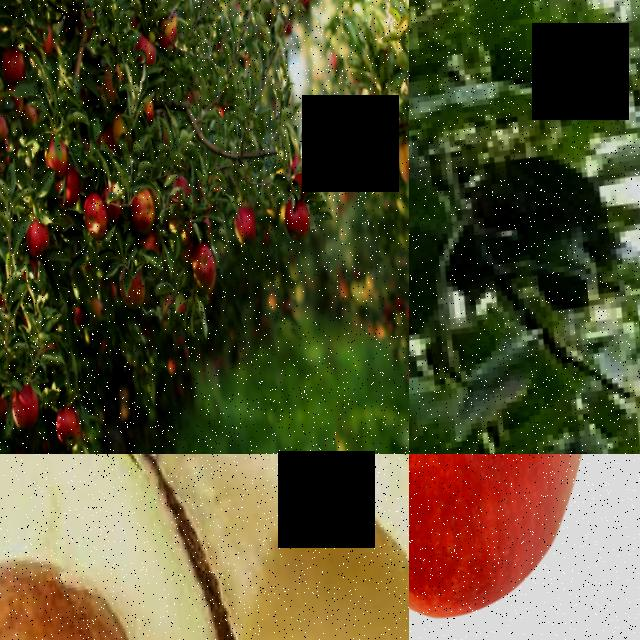apple: (409, 454, 593, 638), (181, 230, 222, 310), (102, 257, 147, 323), (185, 236, 212, 315), (2, 371, 36, 433), (119, 181, 154, 240), (271, 201, 311, 252), (17, 18, 55, 66), (35, 127, 68, 182), (224, 208, 256, 261), (274, 145, 307, 196), (76, 183, 103, 244), (45, 401, 81, 446), (383, 146, 409, 205), (19, 210, 45, 268), (227, 208, 255, 257), (92, 116, 128, 154), (151, 14, 175, 59), (0, 42, 25, 84), (0, 46, 24, 89), (318, 54, 338, 80), (0, 104, 7, 157), (295, 0, 311, 17)
avocado: (0, 454, 252, 640), (184, 454, 409, 640)
